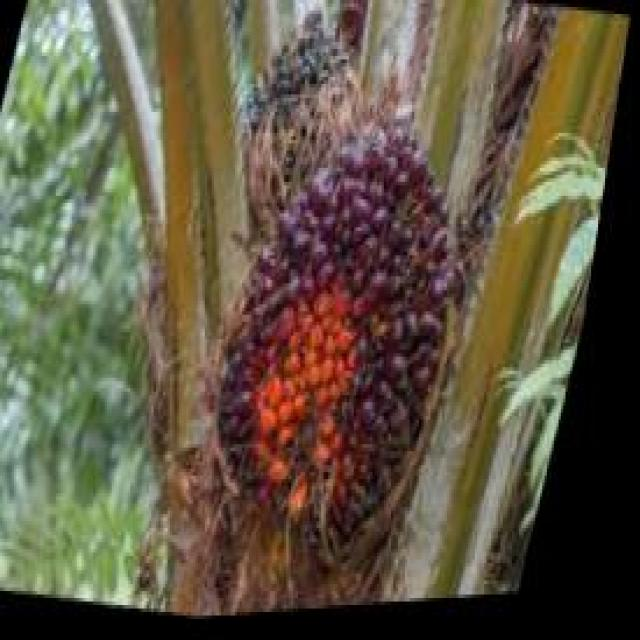Ripefruit: (184, 95, 512, 588)
